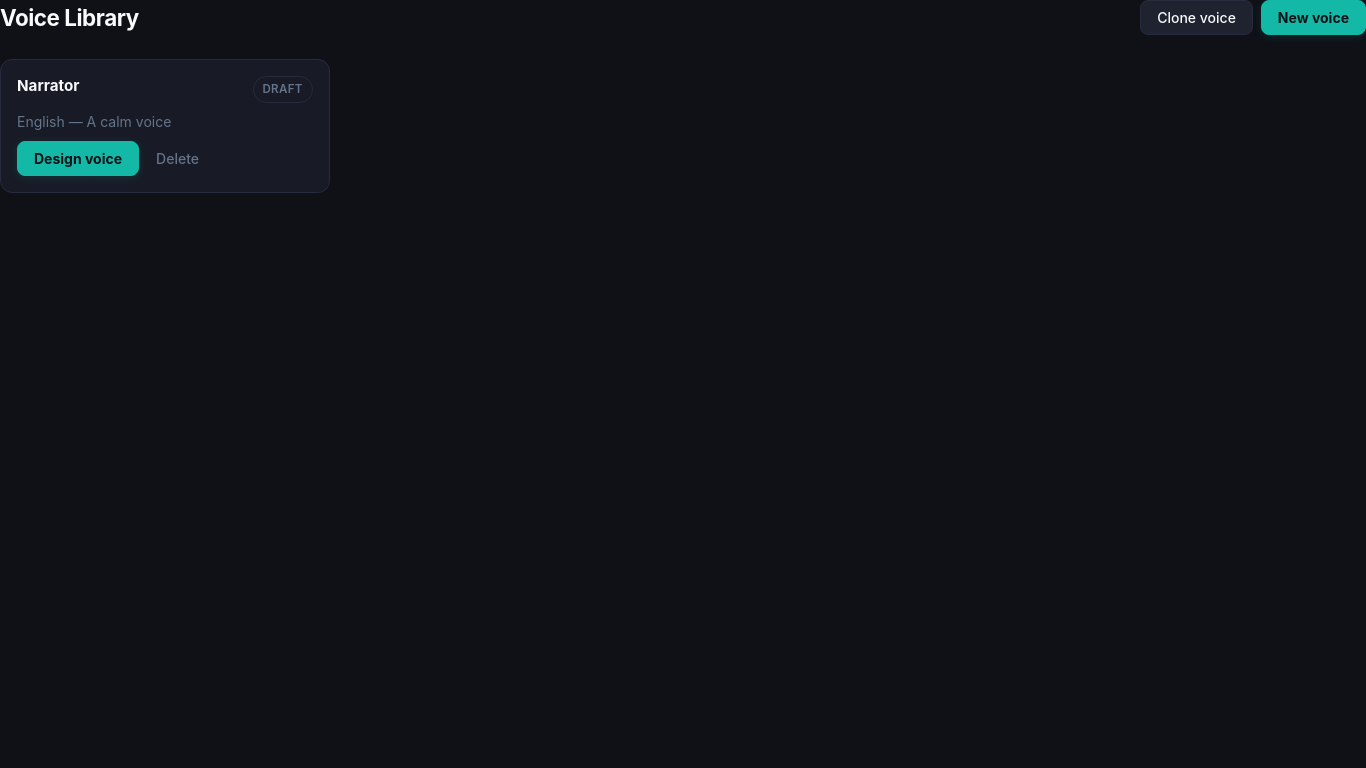
Test: VoiceLibraryPage — create & design › keeps the created draft visible and surfaces an error when design fails
Click the button "New voice". click: [1313, 18]
box: x1=1261 y1=0 x2=1365 y2=35
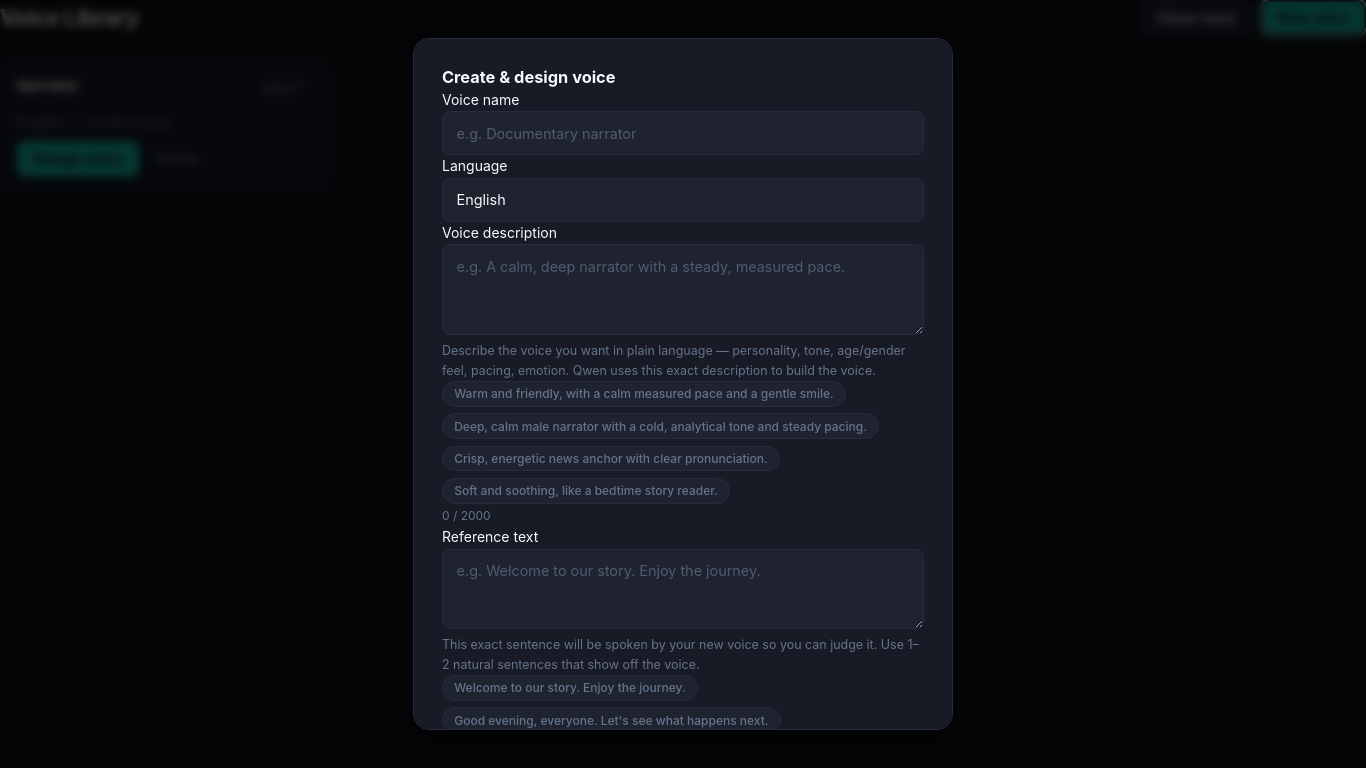
Type "Narrator" into the field named "voice name". click: [683, 133]
box: x1=442 y1=111 x2=924 y2=155
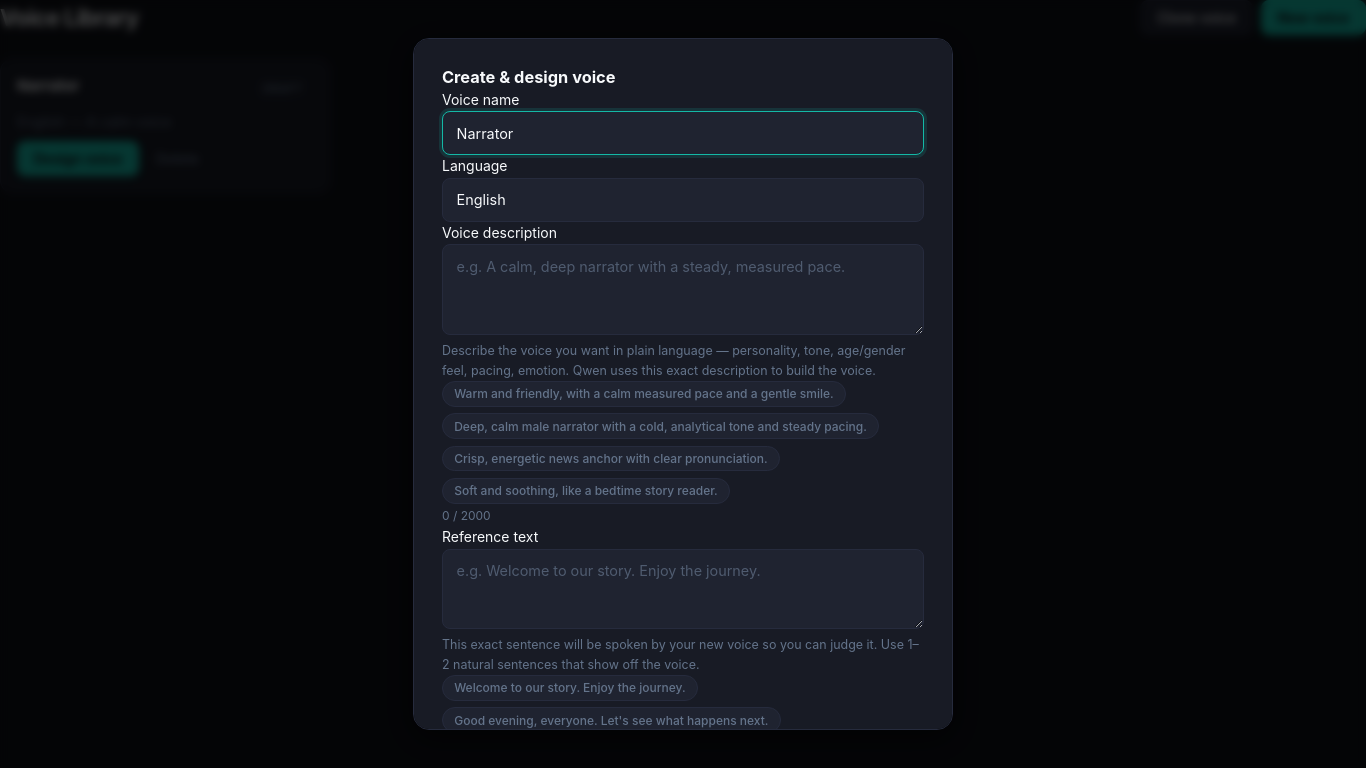
Type "A calm voice" into the text box named "voice description". click: [683, 289]
box: x1=442 y1=244 x2=924 y2=334
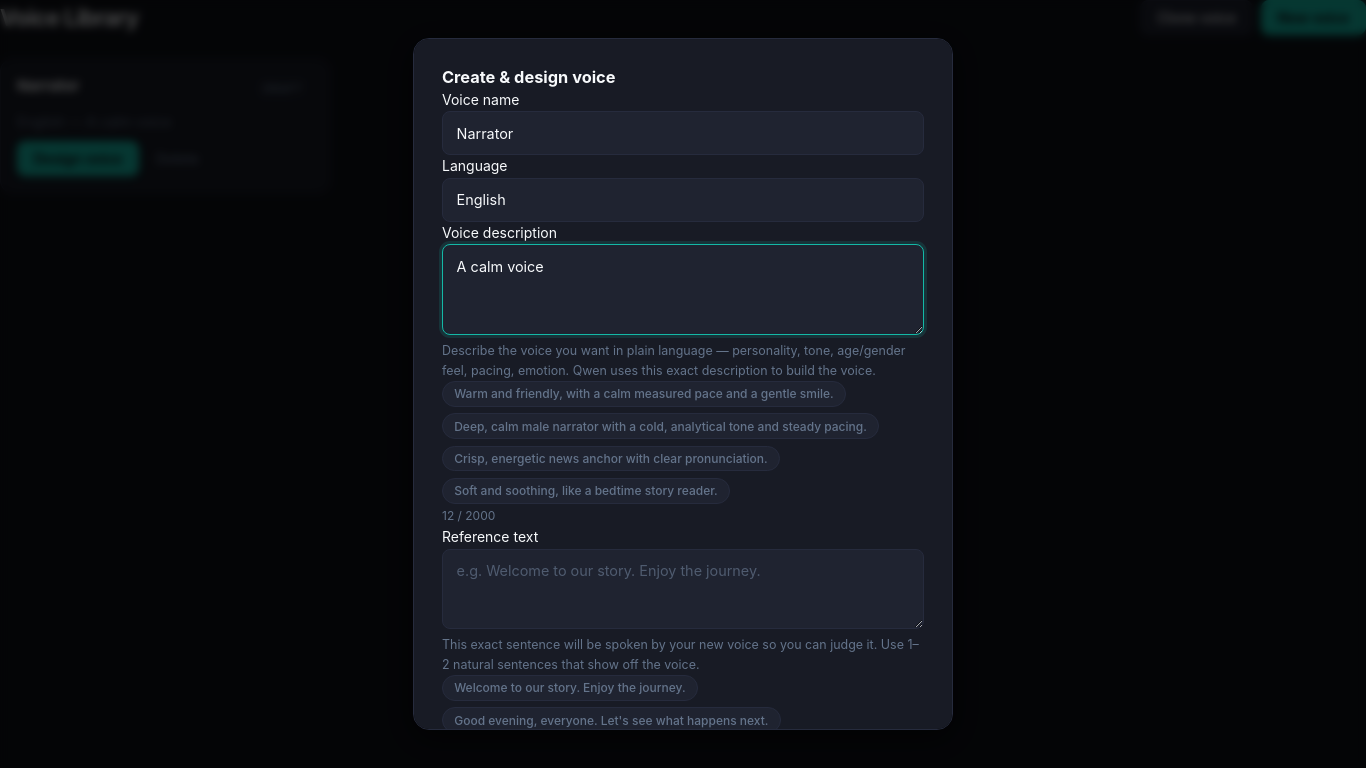
Type "Hello world" into the text box named "reference text". click: [683, 589]
box: x1=442 y1=549 x2=924 y2=629
(page scrolled)
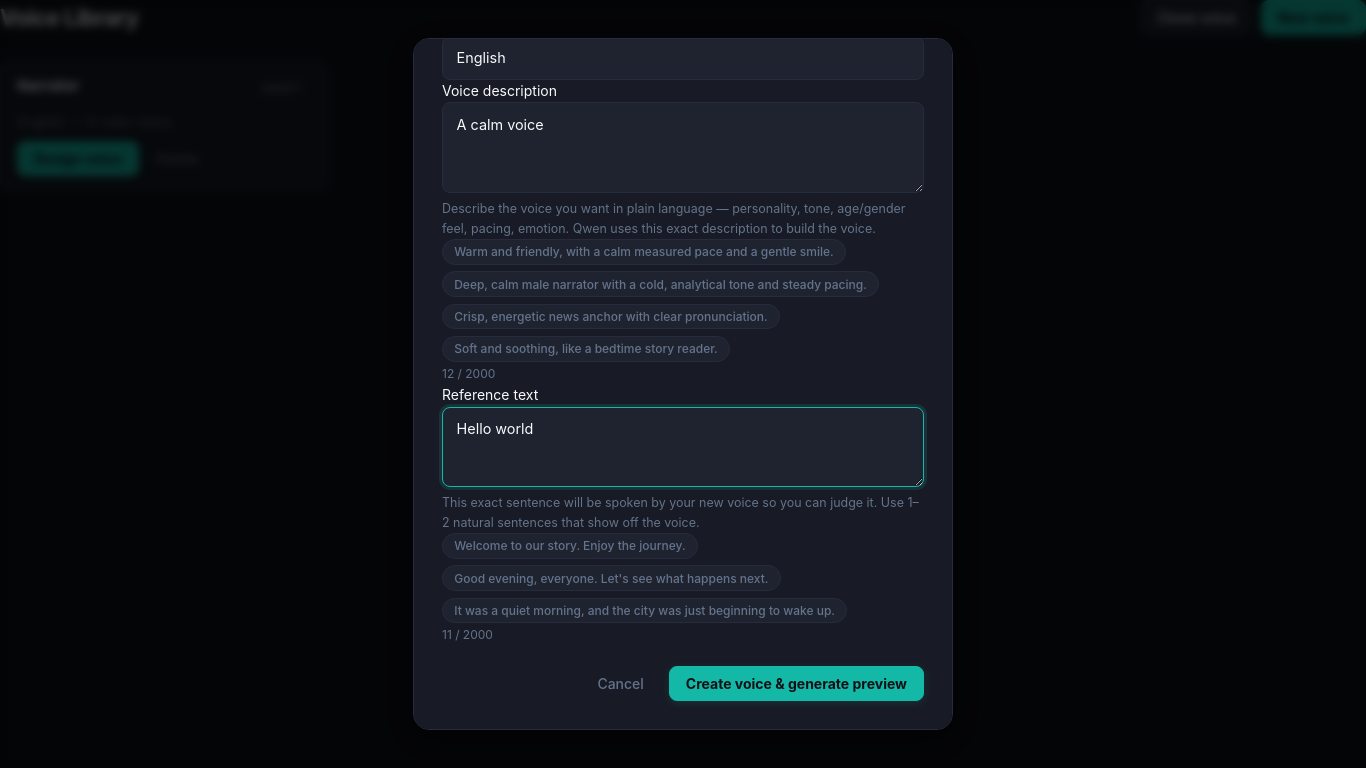
Click the button "Create voice & generate preview". click: [796, 683]
box: x1=669 y1=666 x2=924 y2=701
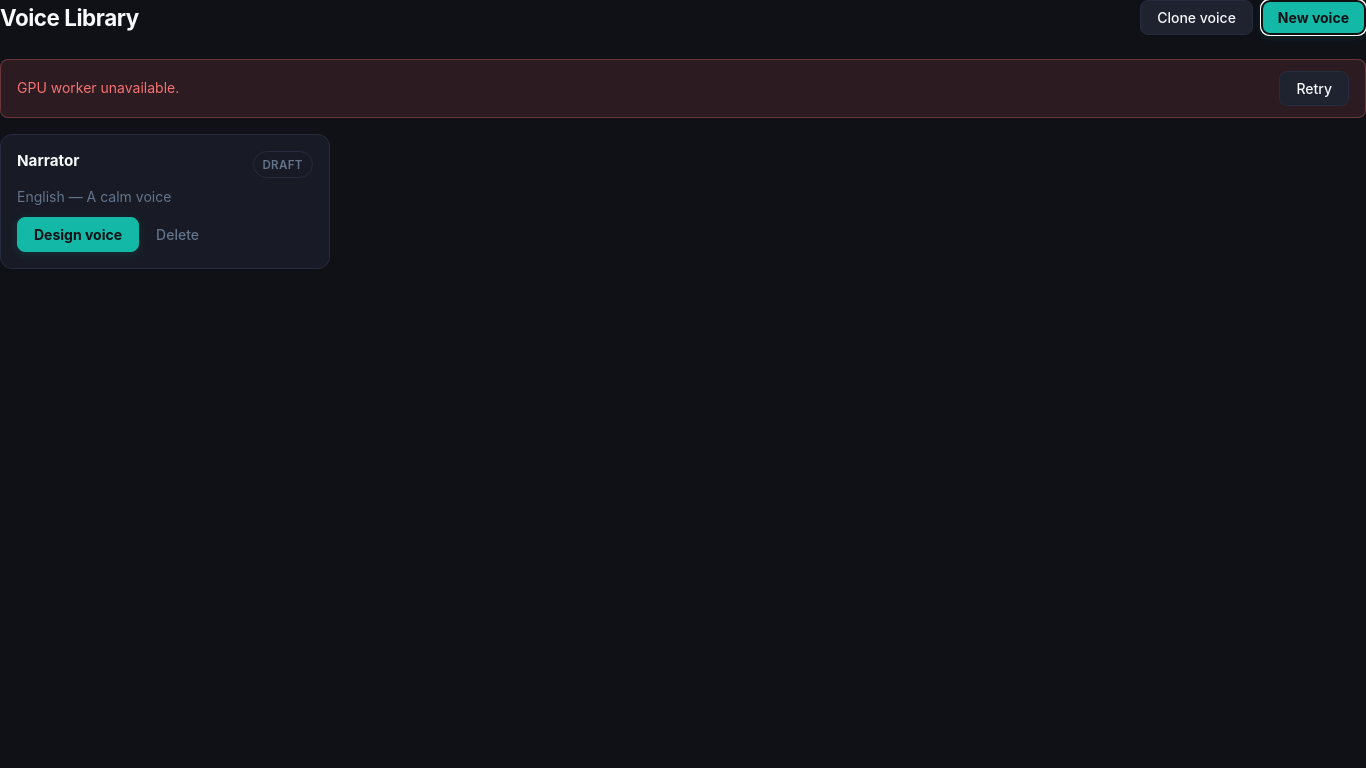
Expected: the button "Design voice" is shown, x1=17 y1=217 x2=139 y2=252
Expected: the text "GPU worker unavailable." is shown, x1=17 y1=78 x2=179 y2=100
Expected: the dialog is gone
